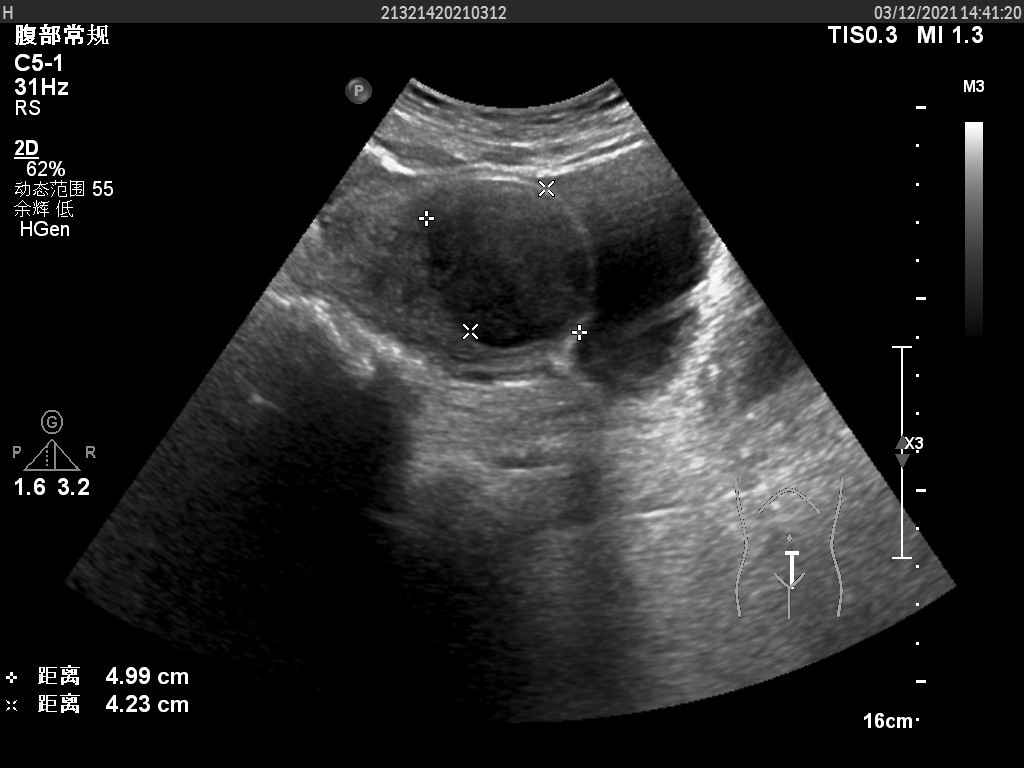肌瘤: (429, 188, 584, 339)
